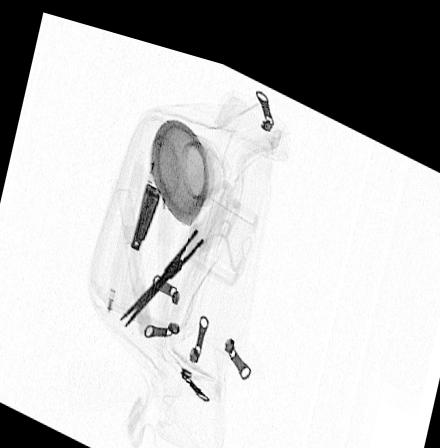Scissors: (118, 183, 237, 322)
